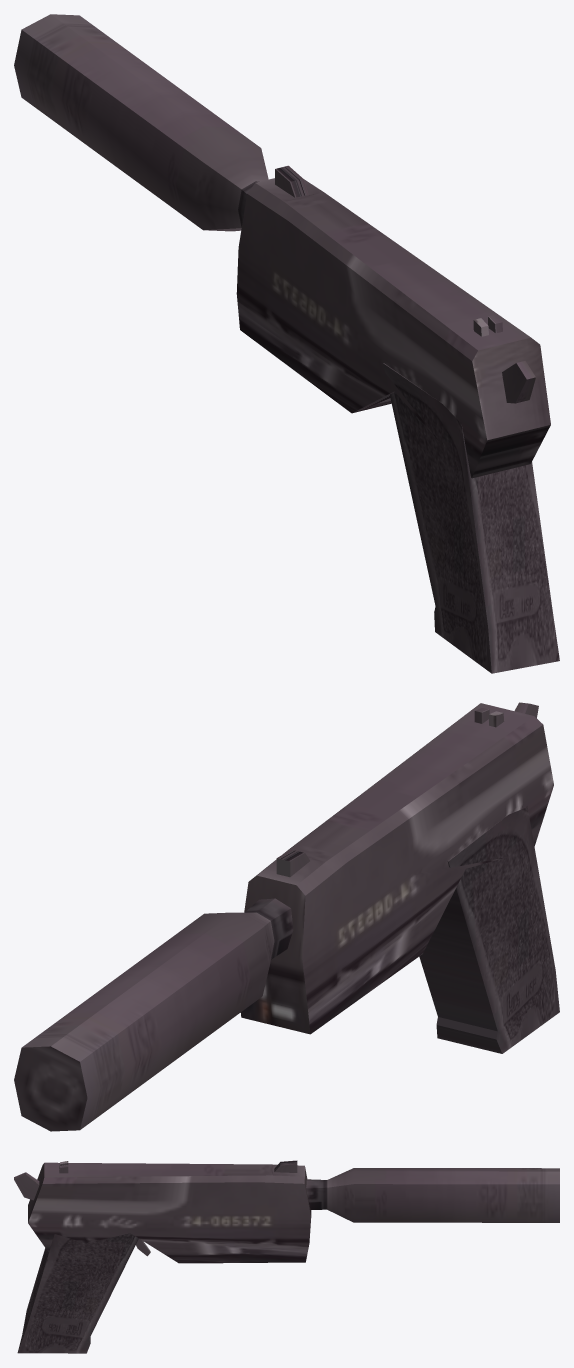
File: lowpolyPistol.fbx
The picture shows the model from 3 angles, top to bottom: view 1: azimuth 30°, elevation 25°; view 2: azimuth 150°, elevation 25°; view 3: azimuth 270°, elevation 25°; orthographic projection. The views are drawn at different scales.
Visible parts, largest first — view 1: Cube.001; view 2: Cube.001; view 3: Cube.001.
Part boxes in pixels (x1,y1,x2,y2): Cube.001: (14, 14, 559, 673); Cube.001: (14, 702, 559, 1131); Cube.001: (14, 1160, 559, 1353).
Bounding box in the file's own units: 52.64 × 221 × 600.
Materials: 1 (1 with a texture image).
